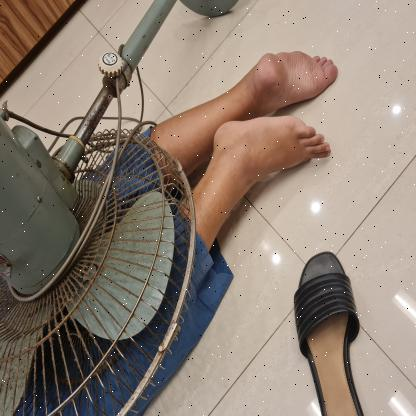leg: (149, 45, 347, 174), (188, 111, 334, 246)
